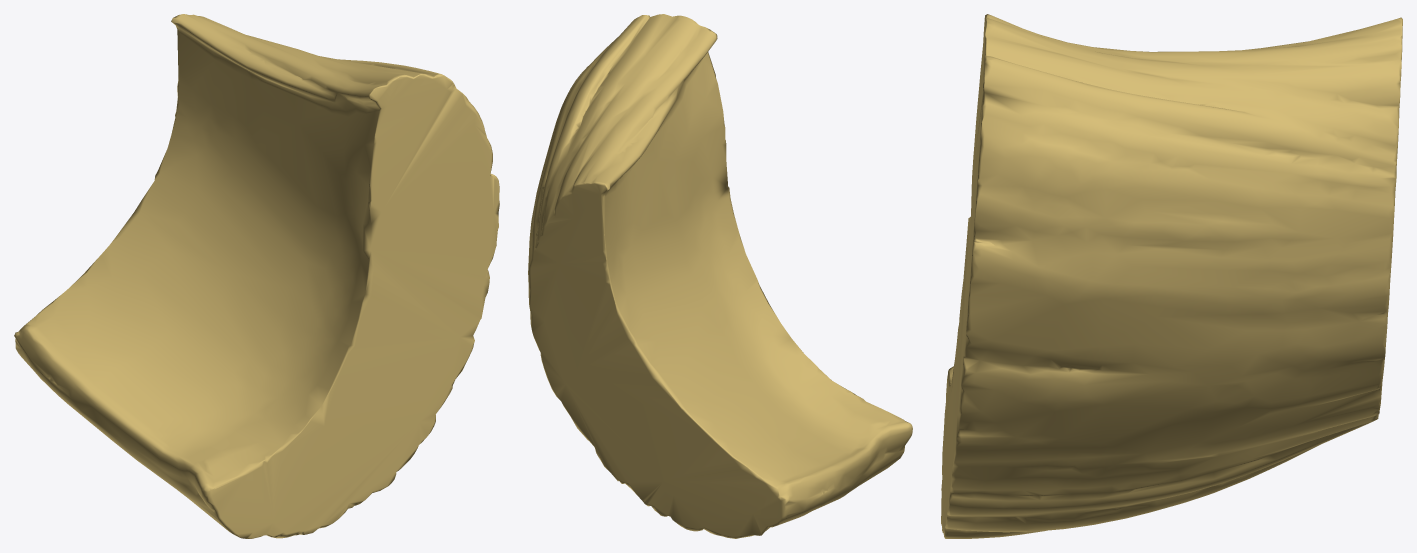
3 renders of one model, left to right at view 1: azimuth 30°, elevation 25°; view 2: azimuth 150°, elevation 25°; view 3: azimuth 270°, elevation 25°, orthographic. The views are drawn at different scales.
Visible parts, largest first — view 1: 左侧大脑脚底; view 2: 左侧大脑脚底; view 3: 左侧大脑脚底.
Part boxes in pixels (box(x1,y1,x2,y2)): 左侧大脑脚底: box(14, 14, 499, 538); 左侧大脑脚底: box(528, 14, 912, 538); 左侧大脑脚底: box(941, 14, 1402, 538).
Size of the model in its own units: 0.0277 by 0.0328 by 0.0239.
